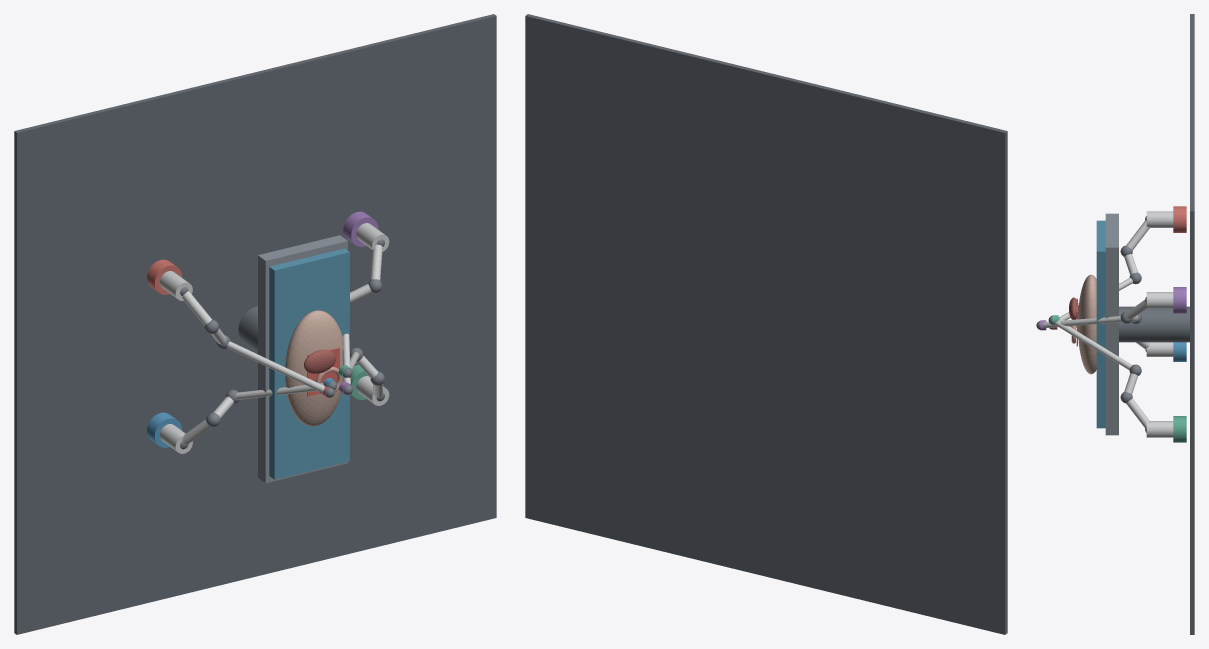
The model's file is dranmar_multiarm_surgical_workcell.glb.
3 renders of one model, left to right at view 1: azimuth 30°, elevation 25°; view 2: azimuth 150°, elevation 25°; view 3: azimuth 270°, elevation 25°, orthographic. The views are drawn at different scales.
Visible parts, largest first — view 1: floor, mattress, table_base, patient_torso, rescue_link_2; view 2: floor; view 3: floor, table_base, table_column, mattress, patient_torso, exposure_link_2, assessment_pedestal, exposure_pedestal, rescue_pedestal, assessment_link_2, primary_pedestal, exposure_base (+5 smaller).
Boxes of the visible parts, x1,y1,x2,y2 form: floor: (14, 14, 496, 634); mattress: (269, 248, 349, 479); table_base: (258, 235, 347, 483); patient_torso: (285, 310, 344, 426); rescue_link_2: (227, 341, 324, 392); floor: (525, 14, 1007, 634); floor: (1190, 14, 1194, 634); table_base: (1105, 213, 1118, 435); table_column: (1119, 306, 1189, 342); mattress: (1096, 220, 1105, 428); patient_torso: (1078, 274, 1096, 374); exposure_link_2: (1055, 320, 1132, 370); assessment_pedestal: (1146, 292, 1173, 308); exposure_pedestal: (1146, 421, 1173, 437); rescue_pedestal: (1146, 211, 1173, 227); assessment_link_2: (1043, 316, 1121, 327); primary_pedestal: (1146, 342, 1173, 356); exposure_base: (1173, 416, 1186, 442).
Bounding box in the file's own units: 4.2 × 4.2 × 1.42.
